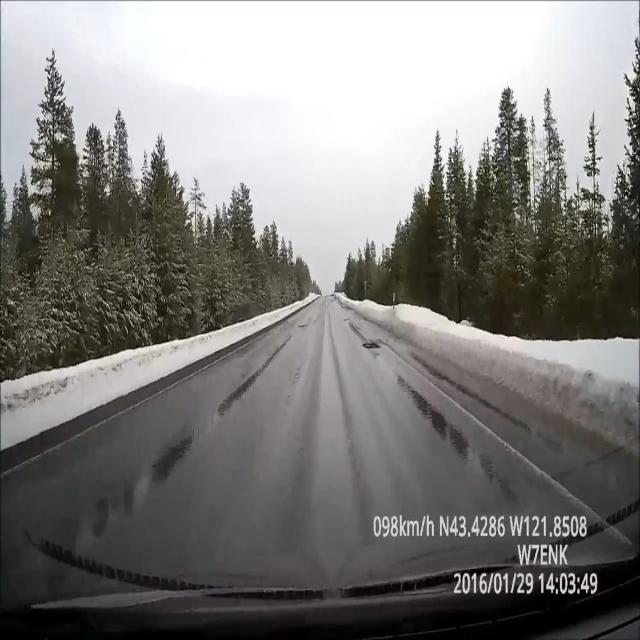Pothole: (360, 335, 384, 354)
